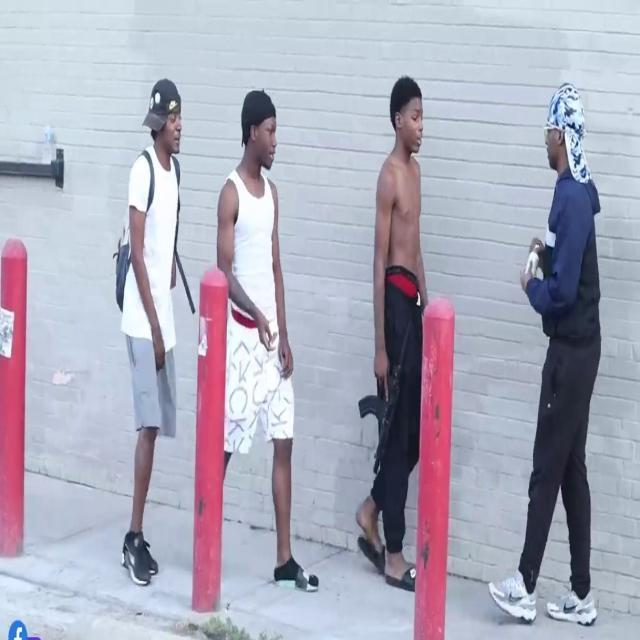Rifle: (358, 329, 414, 488)
